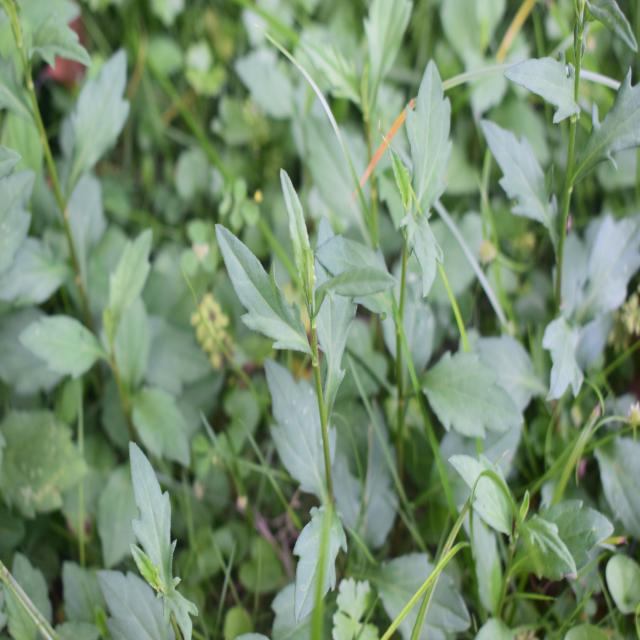Indian aster: (212, 156, 383, 504), (367, 73, 490, 446)
